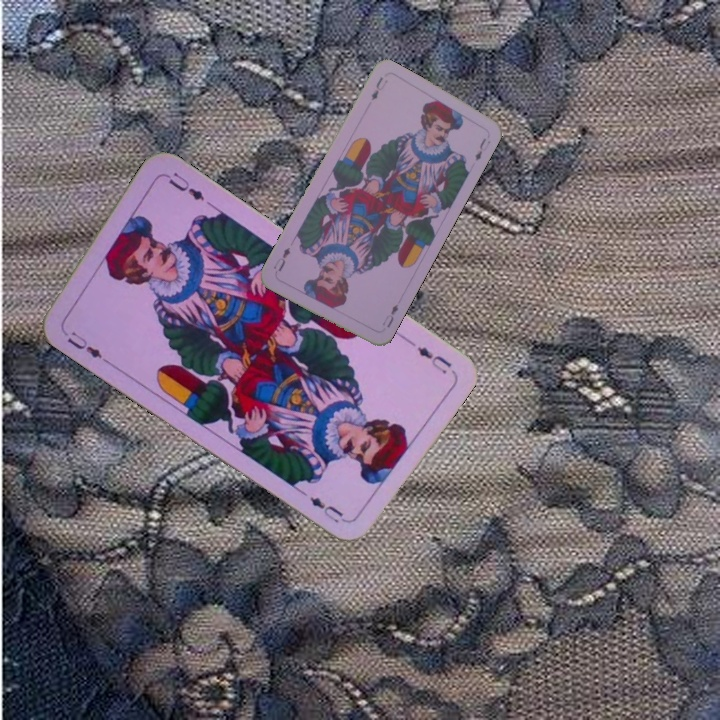EU: (57, 324, 109, 363), (412, 342, 454, 377), (378, 300, 401, 330), (367, 73, 390, 103)
